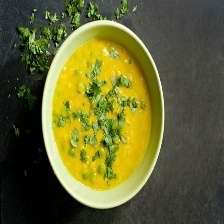dal: (51, 34, 155, 191)
